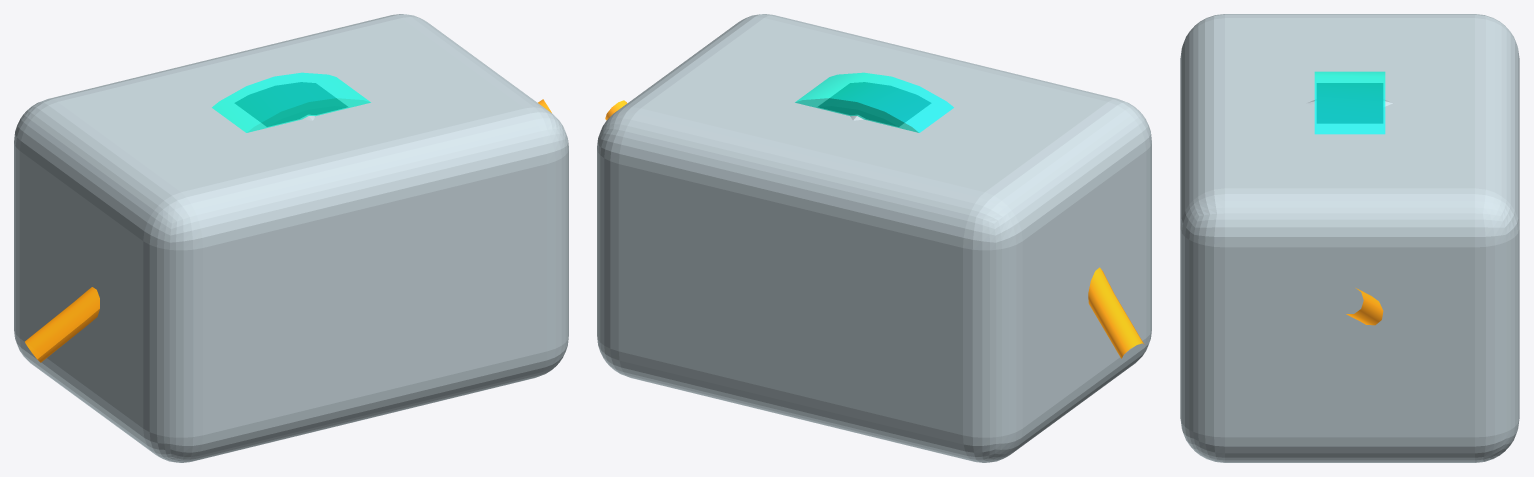
Rendered from transmission_hydraulics_01.glb.
3 renders of one model, left to right at view 1: azimuth 30°, elevation 25°; view 2: azimuth 150°, elevation 25°; view 3: azimuth 270°, elevation 25°, orthographic.
Parts seen in each view (by area): view 1: asset_mesh__transmission_hydraulics_0008__reference_body, asset_mesh__transmission_hydraulics_0043__friction_body, asset_mesh__transmission_hydraulics_0033__friction_body, asset_mesh__transmission_hydraulics_0024__fluid_path; view 2: asset_mesh__transmission_hydraulics_0008__reference_body, asset_mesh__transmission_hydraulics_0043__friction_body, asset_mesh__transmission_hydraulics_0033__friction_body, asset_mesh__transmission_hydraulics_0024__fluid_path; view 3: asset_mesh__transmission_hydraulics_0008__reference_body, asset_mesh__transmission_hydraulics_0043__friction_body, asset_mesh__transmission_hydraulics_0033__friction_body, asset_mesh__transmission_hydraulics_0024__fluid_path.
Boxes of the visible parts, x1,y1,x2,y2 form: asset_mesh__transmission_hydraulics_0008__reference_body: (14,14,568,462); asset_mesh__transmission_hydraulics_0043__friction_body: (212,72,370,132); asset_mesh__transmission_hydraulics_0033__friction_body: (235,82,347,126); asset_mesh__transmission_hydraulics_0024__fluid_path: (25,99,551,362); asset_mesh__transmission_hydraulics_0008__reference_body: (597,14,1151,462); asset_mesh__transmission_hydraulics_0043__friction_body: (795,72,953,132); asset_mesh__transmission_hydraulics_0033__friction_body: (818,82,930,126); asset_mesh__transmission_hydraulics_0024__fluid_path: (605,100,1144,358); asset_mesh__transmission_hydraulics_0008__reference_body: (1180,14,1519,462); asset_mesh__transmission_hydraulics_0043__friction_body: (1314,71,1385,134); asset_mesh__transmission_hydraulics_0033__friction_body: (1317,83,1382,123); asset_mesh__transmission_hydraulics_0024__fluid_path: (1346,288,1383,325).
Size of the model in its own units: 1.54 by 0.8268 by 0.84.
